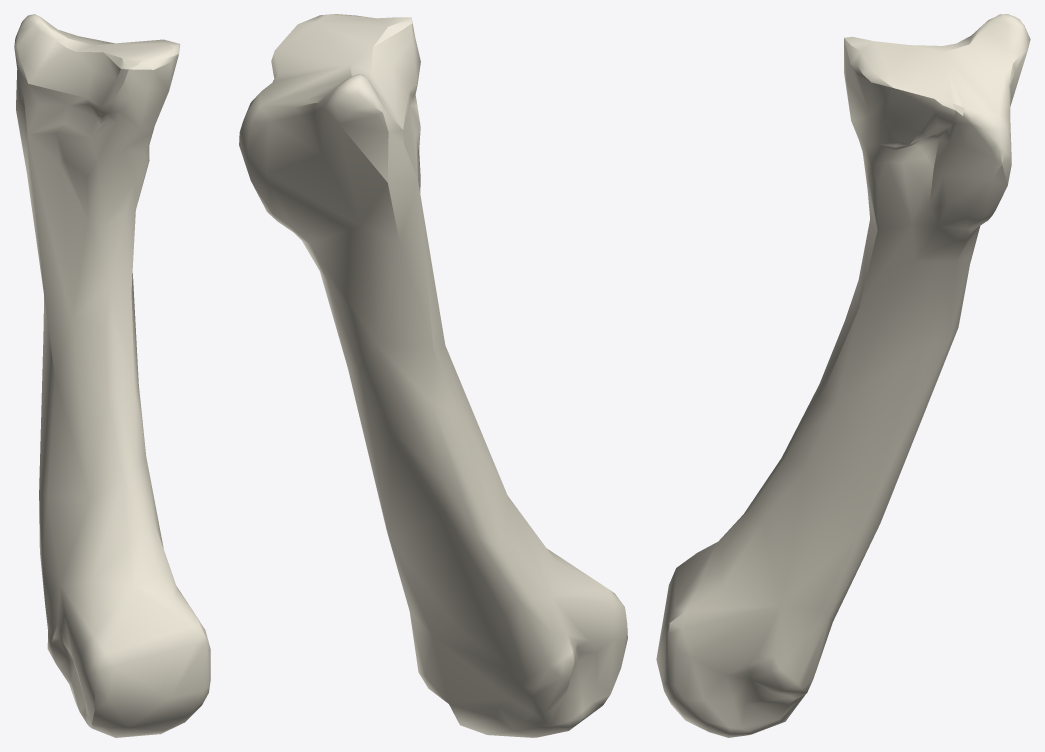
Rendered from fma24468_fj3354.glb.
The picture shows the model from 3 angles, left to right: view 1: azimuth 30°, elevation 25°; view 2: azimuth 150°, elevation 25°; view 3: azimuth 270°, elevation 25°; orthographic projection. The views are drawn at different scales.
Parts seen in each view (by area): view 1: FMA24468_FJ3354; view 2: FMA24468_FJ3354; view 3: FMA24468_FJ3354.
Boxes of the visible parts, <box> form: FMA24468_FJ3354: <box>14,14,210,737</box>; FMA24468_FJ3354: <box>239,14,627,737</box>; FMA24468_FJ3354: <box>656,14,1030,737</box>.
Size of the model in its own units: 0.0199 by 0.0644 by 0.0304.
